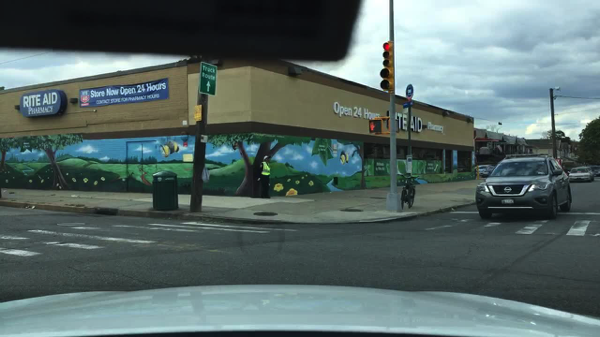bike: (395, 170, 419, 209)
car: (474, 154, 572, 219), (566, 163, 591, 182), (475, 162, 492, 177), (585, 164, 597, 180), (592, 163, 599, 183)
person: (257, 154, 274, 198)
traffic light: (379, 43, 395, 94), (367, 118, 382, 133)
traffic sign: (197, 63, 218, 96), (193, 104, 202, 123), (404, 83, 413, 100), (406, 151, 413, 170), (200, 135, 209, 144), (402, 104, 414, 109)
